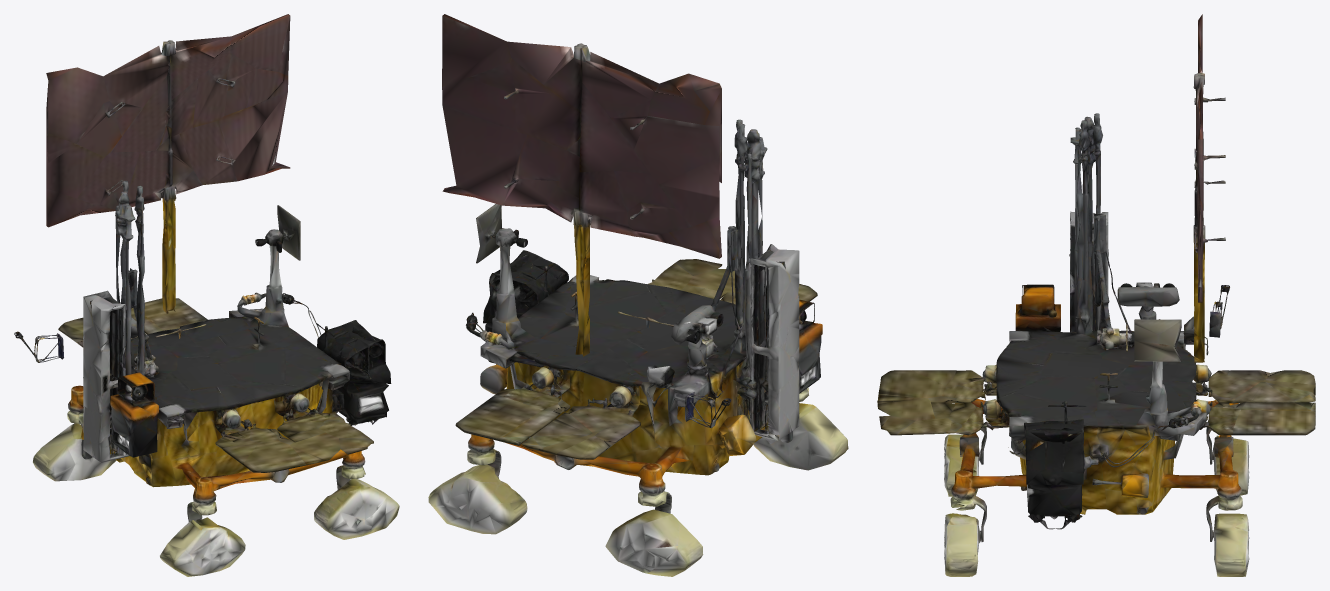
File: lupex-low.glb
The picture shows the model from 3 angles, left to right: view 1: azimuth 30°, elevation 25°; view 2: azimuth 150°, elevation 25°; view 3: azimuth 270°, elevation 25°; orthographic projection. The views are drawn at different scales.
Bounding box in the file's own units: 1.33 × 1.9 × 1.66.
Materials: 1 (1 with a texture image).
